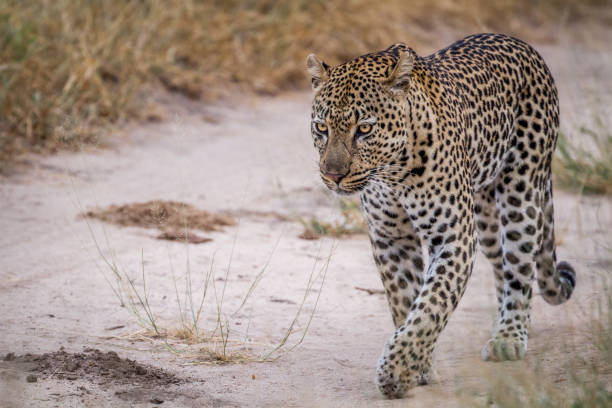cheetah: (298, 37, 435, 204)
